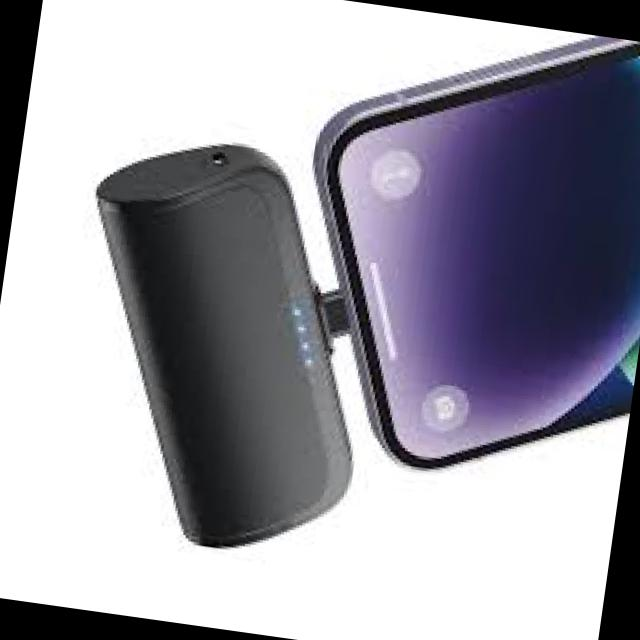power_bank: (36, 126, 402, 578)
